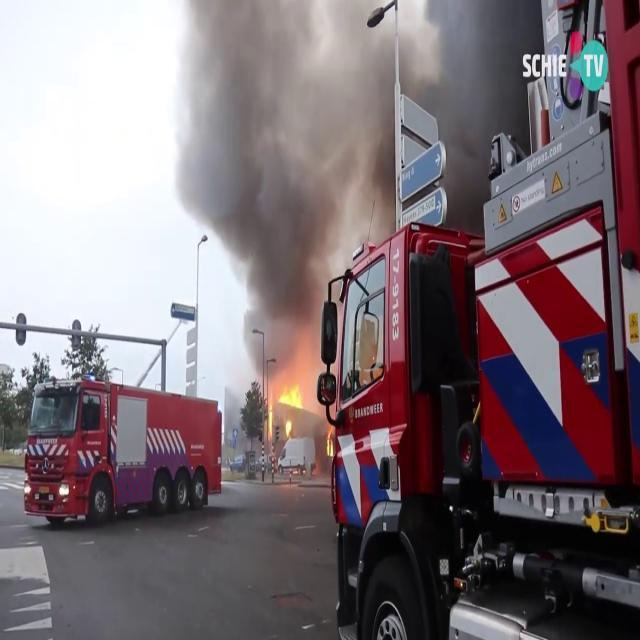Fire: (266, 372, 308, 440)
Smoke: (162, 0, 396, 326)
